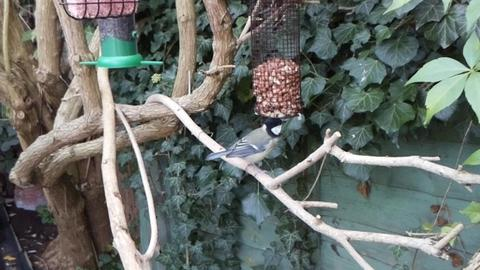great tit: (205, 117, 288, 178)
